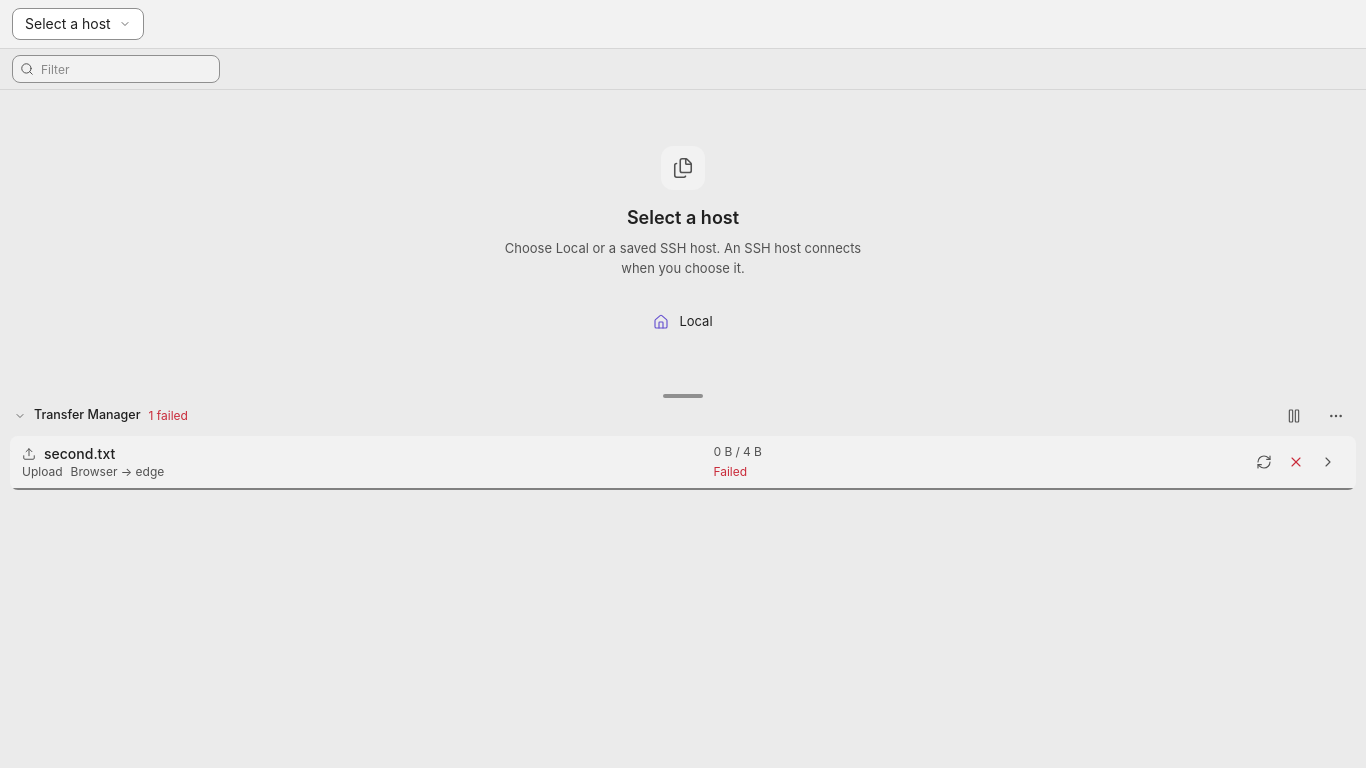
Test: SFTPPanel uploads › says which VPN route the chosen host is reached through
expect the text "VPN: " is not shown: met
Step 1. Click the button "Select a host" → (78, 24), box [12, 8, 144, 40]
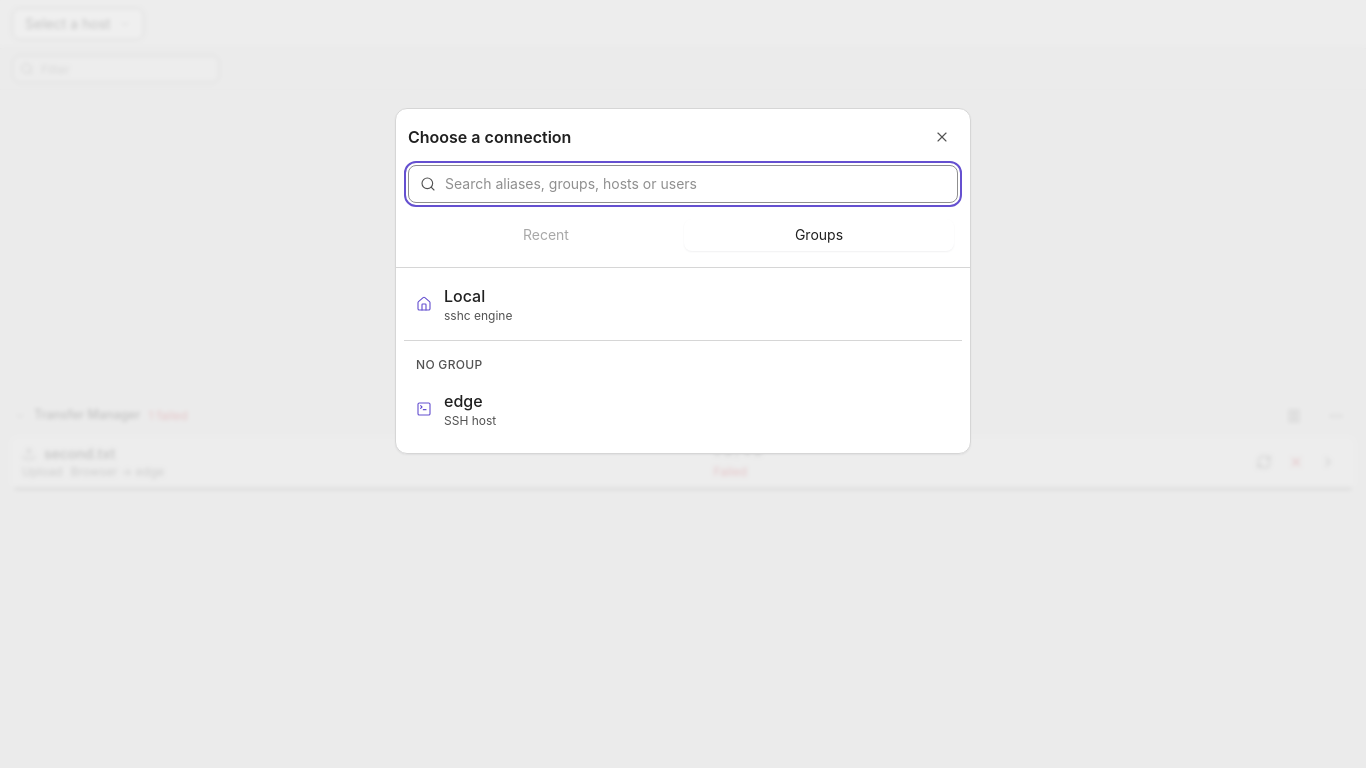
Step 2. Click the button "edge SSH host" → (463, 401), box [404, 380, 962, 436]
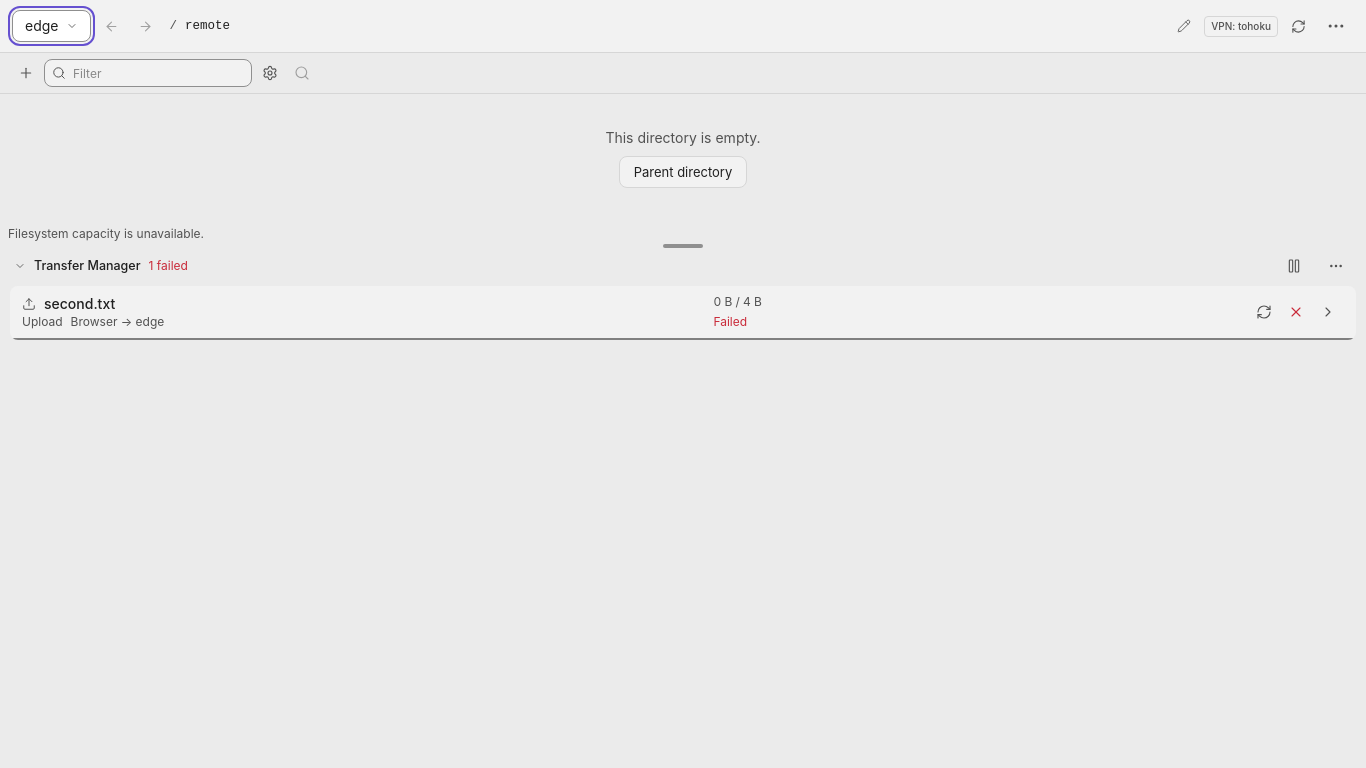
expect the text "VPN: tohoku" is shown: met, box [1204, 16, 1278, 36]
